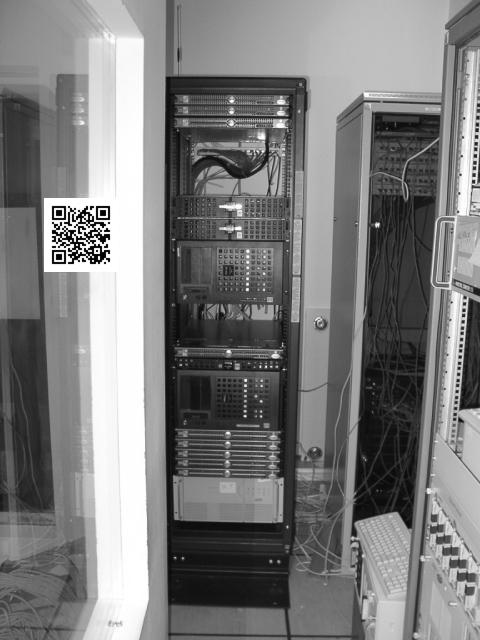qr_code: (42, 200, 118, 272)
